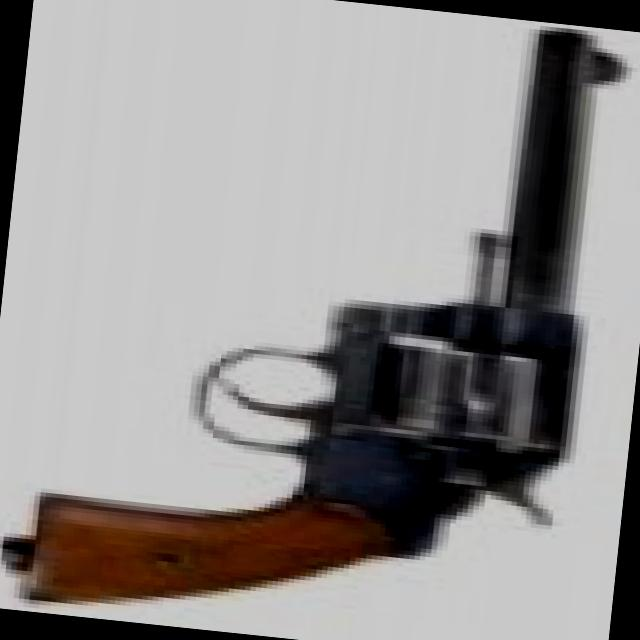handgun: (22, 0, 634, 639)
